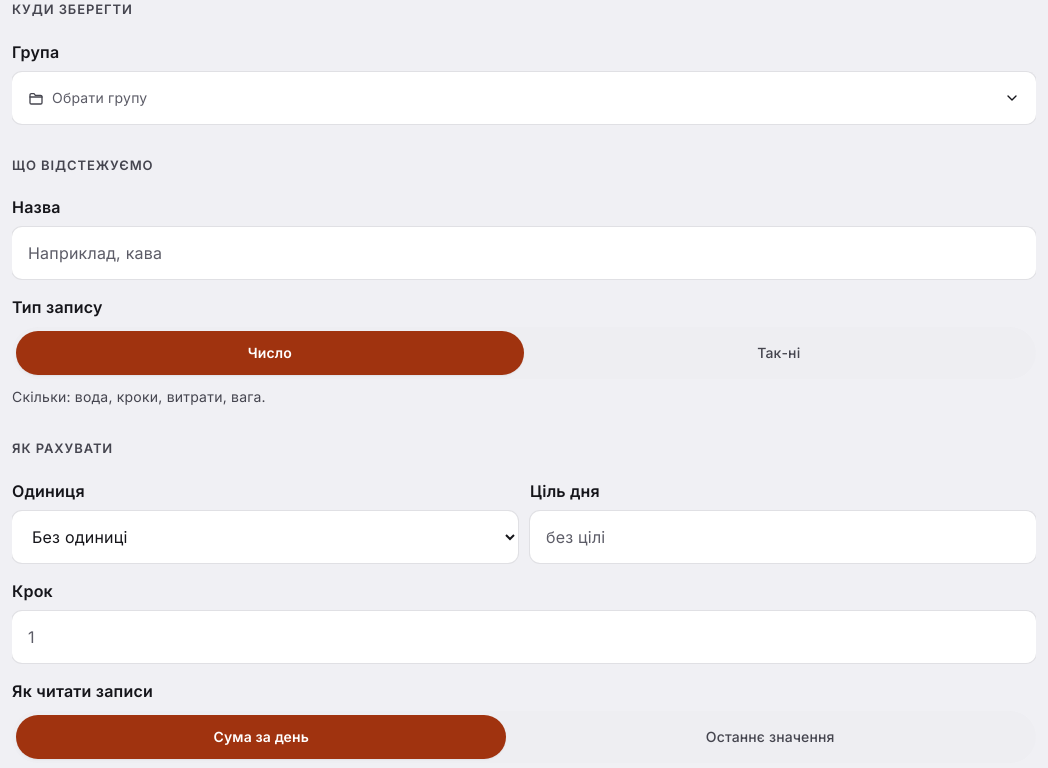
новий трекер › огляд біля кнопок каже, що саме запишеться
Type "Кава" into the field labelled "Назва" at (524, 253), box [12,227,1036,279]
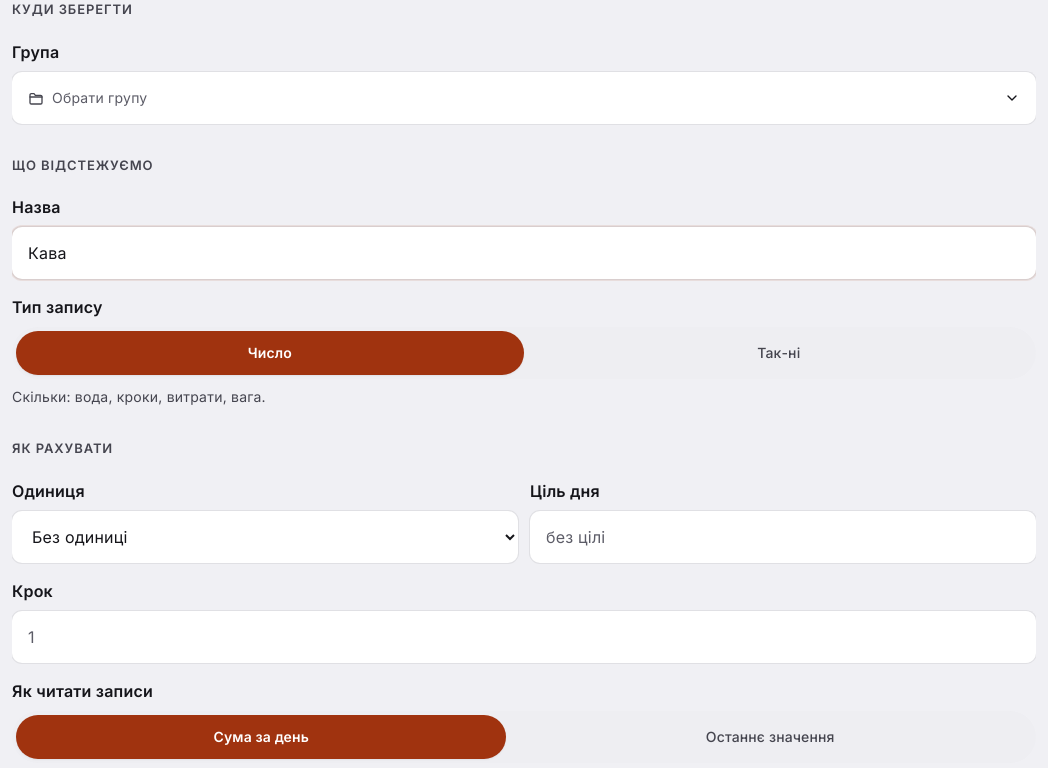
Select "хв" in the dropdown labelled "Одиниця" at (265, 537), box [12,511,518,563]
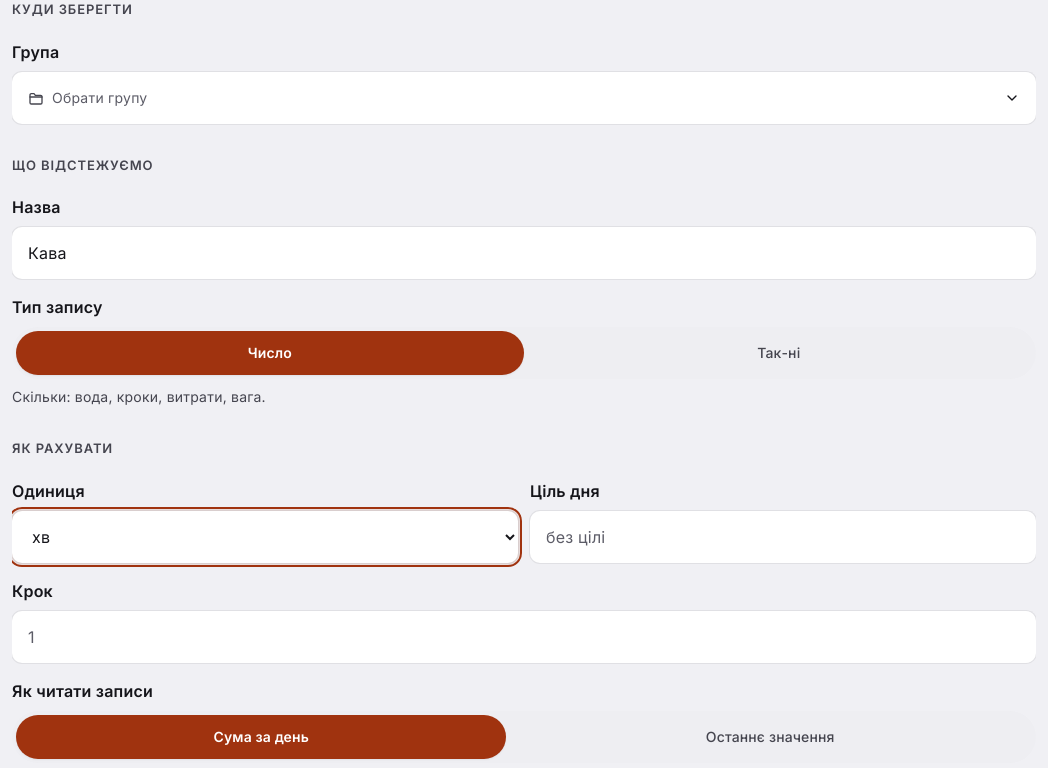
Type "30" into the field labelled "Ціль дня" at (783, 537), box [530,511,1036,563]
(page scrolled)
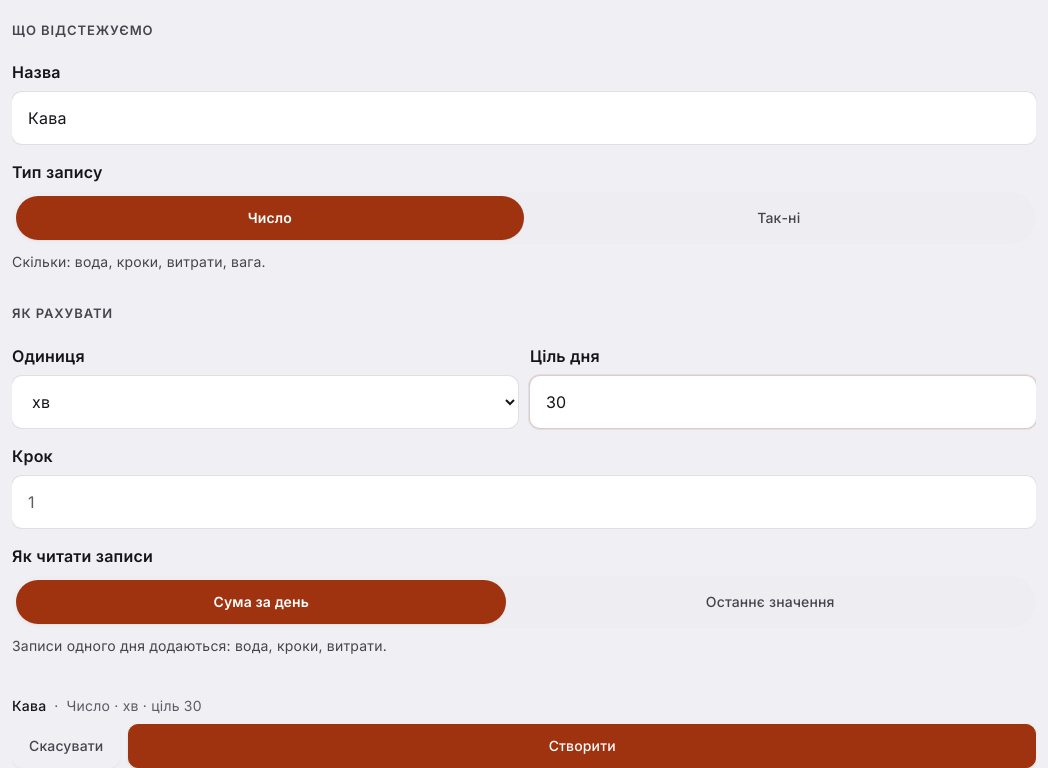
Now the text "Кава" is shown, box [12,696,46,716]
Now the text "Число · хв · ціль 30" is shown, box [54,696,202,716]
